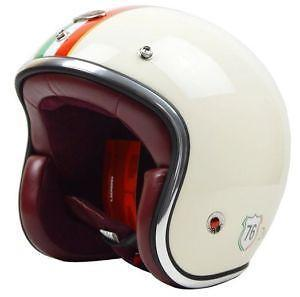with_helmet: (14, 4, 291, 288)
